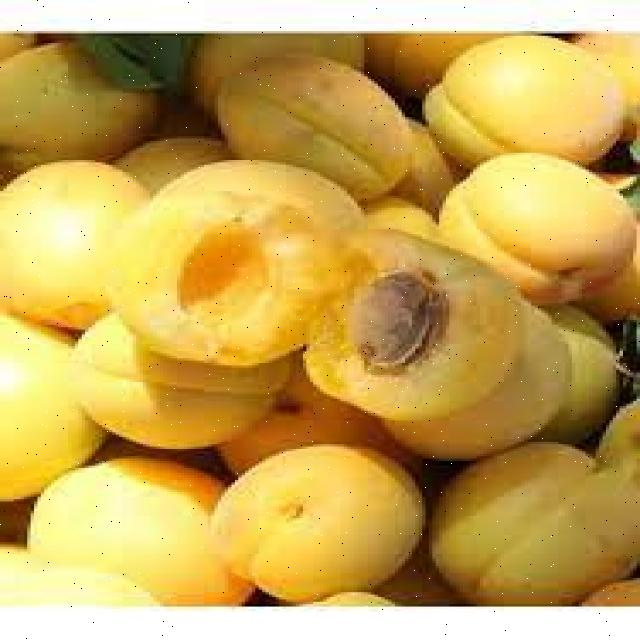Cekirdek: (354, 270, 446, 368)
Kayisi: (112, 160, 357, 365)
Yaprak: (78, 33, 191, 93)
